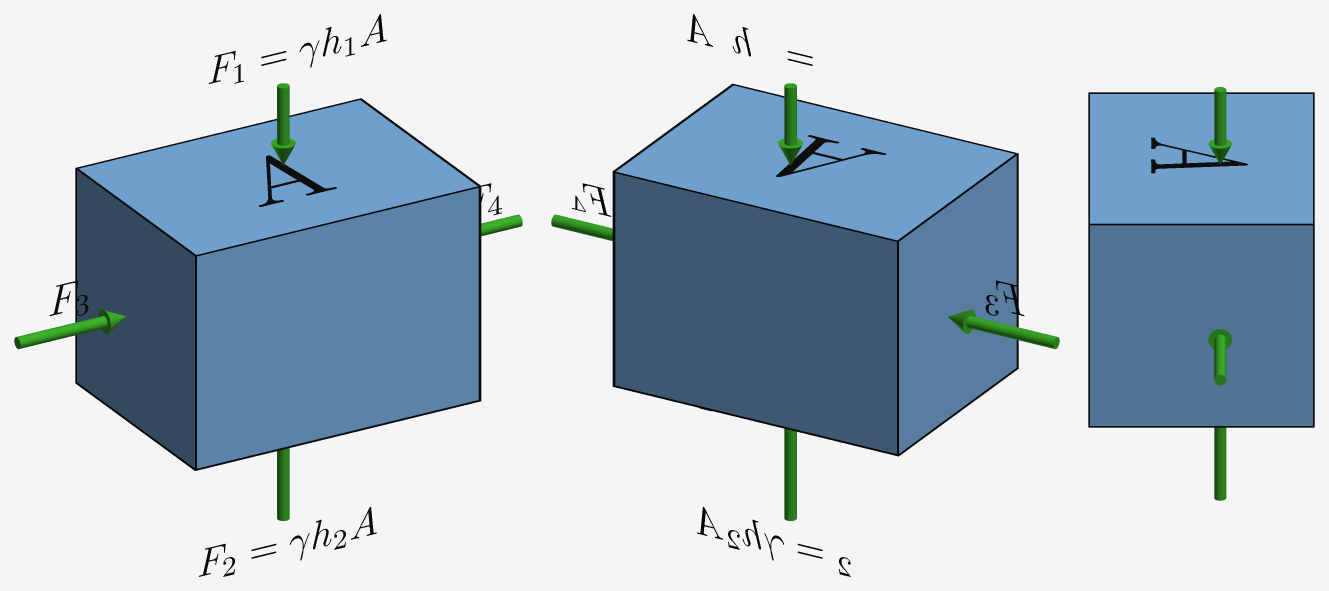
Rendered from Buoyancy1.glb.
The picture shows the model from 3 angles, left to right: view 1: azimuth 30°, elevation 25°; view 2: azimuth 150°, elevation 25°; view 3: azimuth 270°, elevation 25°; orthographic projection. The views are drawn at different scales.
Parts seen in each view (by area): view 1: Cube.001, Cube.002, Cone.002, Cone.001, Curve.001, Curve, Cone, Curve.002; view 2: Cube.001, Cube.002, Cone.002, Cone, Cone.001, Curve.002, Cone.003, Curve.001; view 3: Cube.001, Cube.002, Cone.001, Cone, Cone.003, Curve.002.
Boxes of the visible parts, x1,y1,x2,y2 form: Cube.001: (77,100,478,468); Cube.002: (75,98,481,470); Cone.002: (14,309,125,349); Cone.001: (271,83,295,165); Curve.001: (199,507,376,576); Curve: (208,14,386,83); Cone: (277,448,289,520); Curve.002: (259,155,336,206); Cube.001: (615,85,1016,453); Cube.002: (612,83,1018,456); Cone.002: (948,309,1059,349); Cone: (784,428,796,520); Cone.001: (778,83,802,165); Curve.002: (776,135,885,176); Cone.003: (551,214,612,240); Curve.001: (697,507,850,576); Cube.001: (1090,94,1312,425); Cube.002: (1088,92,1314,427); Cone.001: (1208,87,1231,164); Cone: (1214,427,1226,500); Cone.003: (1208,329,1231,385); Curve.002: (1151,137,1247,173).
Size of the model in its own units: 2.3 by 2.31 by 0.9523.
